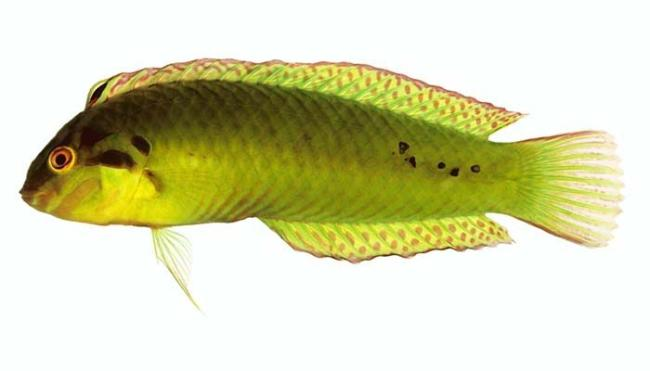fish: (20, 57, 624, 314)
